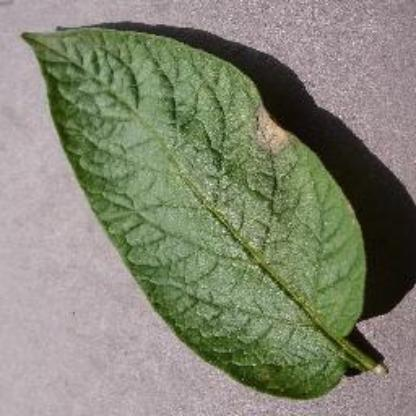Late-Blight: (16, 23, 390, 400)
